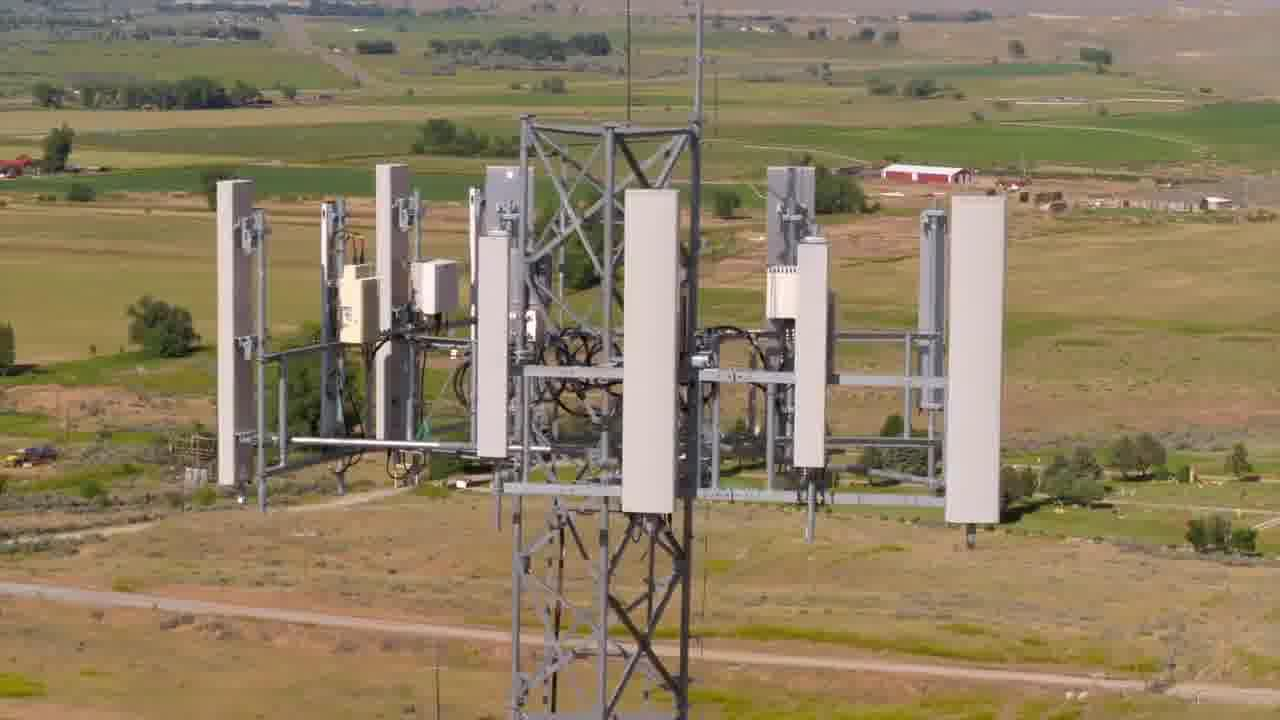antenna: (625, 179, 694, 523), (945, 188, 1013, 537), (368, 154, 436, 464), (208, 176, 265, 497), (469, 228, 521, 471), (789, 233, 835, 492), (767, 157, 818, 280), (921, 205, 946, 443)
